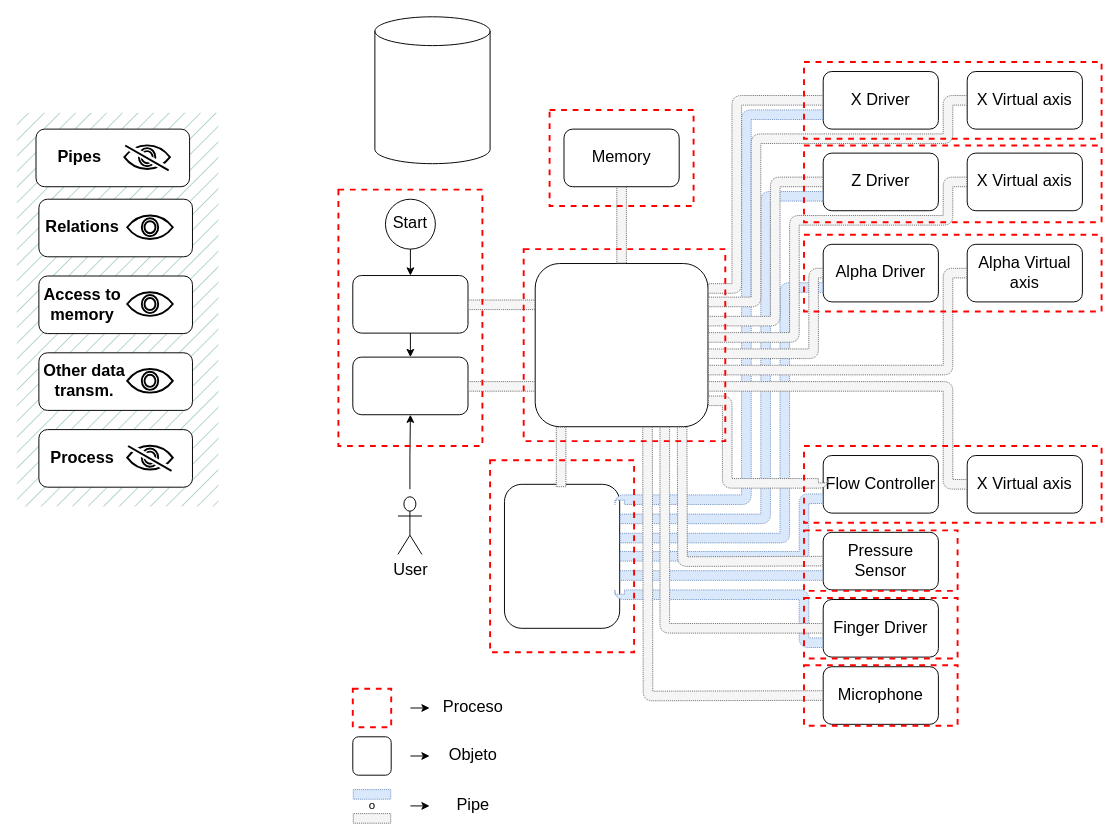
This 1118x840 diagram has some shape labels left out. Here are the shapes that lost their labels. From the top down, the centre of each, then its label:
At point (432, 90): "Shared Data (Server)".
At point (410, 304): "StartUp Window".
At point (621, 345): "Musician".
At point (410, 385): "Main Window".
At point (562, 555): "Comunication Center".
